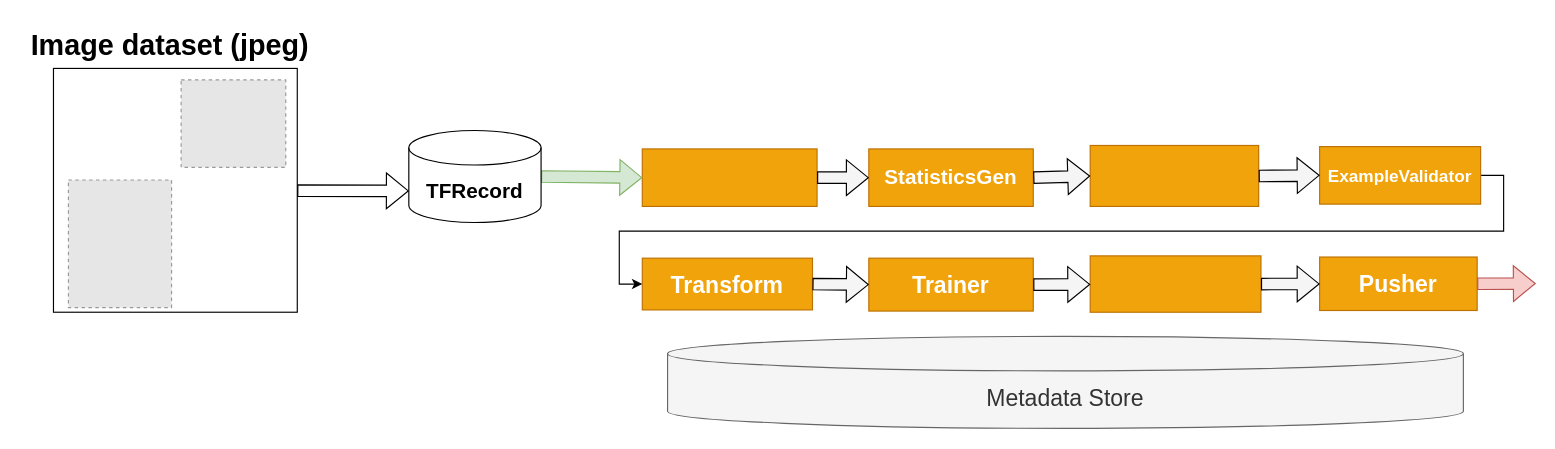
Some shapes in this 1555 by 449 pixel diagram are drawn without their labels. Grey dashed boxes stand in for pictures. Each missing label, with the centre of its shape:
"Evaluator" belongs at point (1175, 283).
"ExampleGen" belongs at point (729, 177).
"SchemaGen / Importer" belongs at point (1174, 175).
